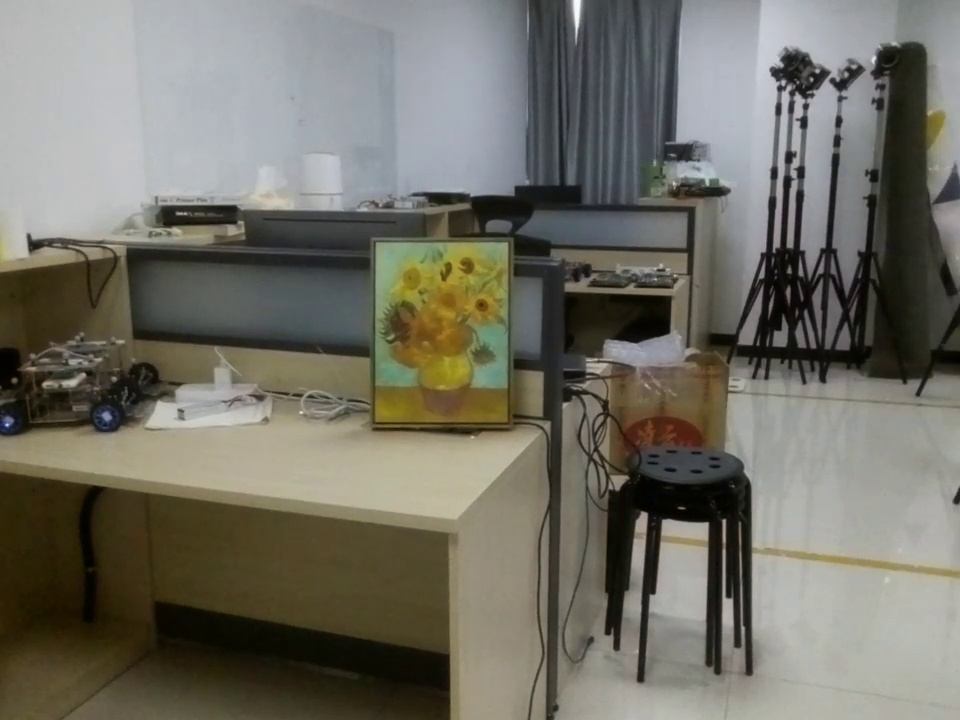painting: (365, 234, 524, 432)
